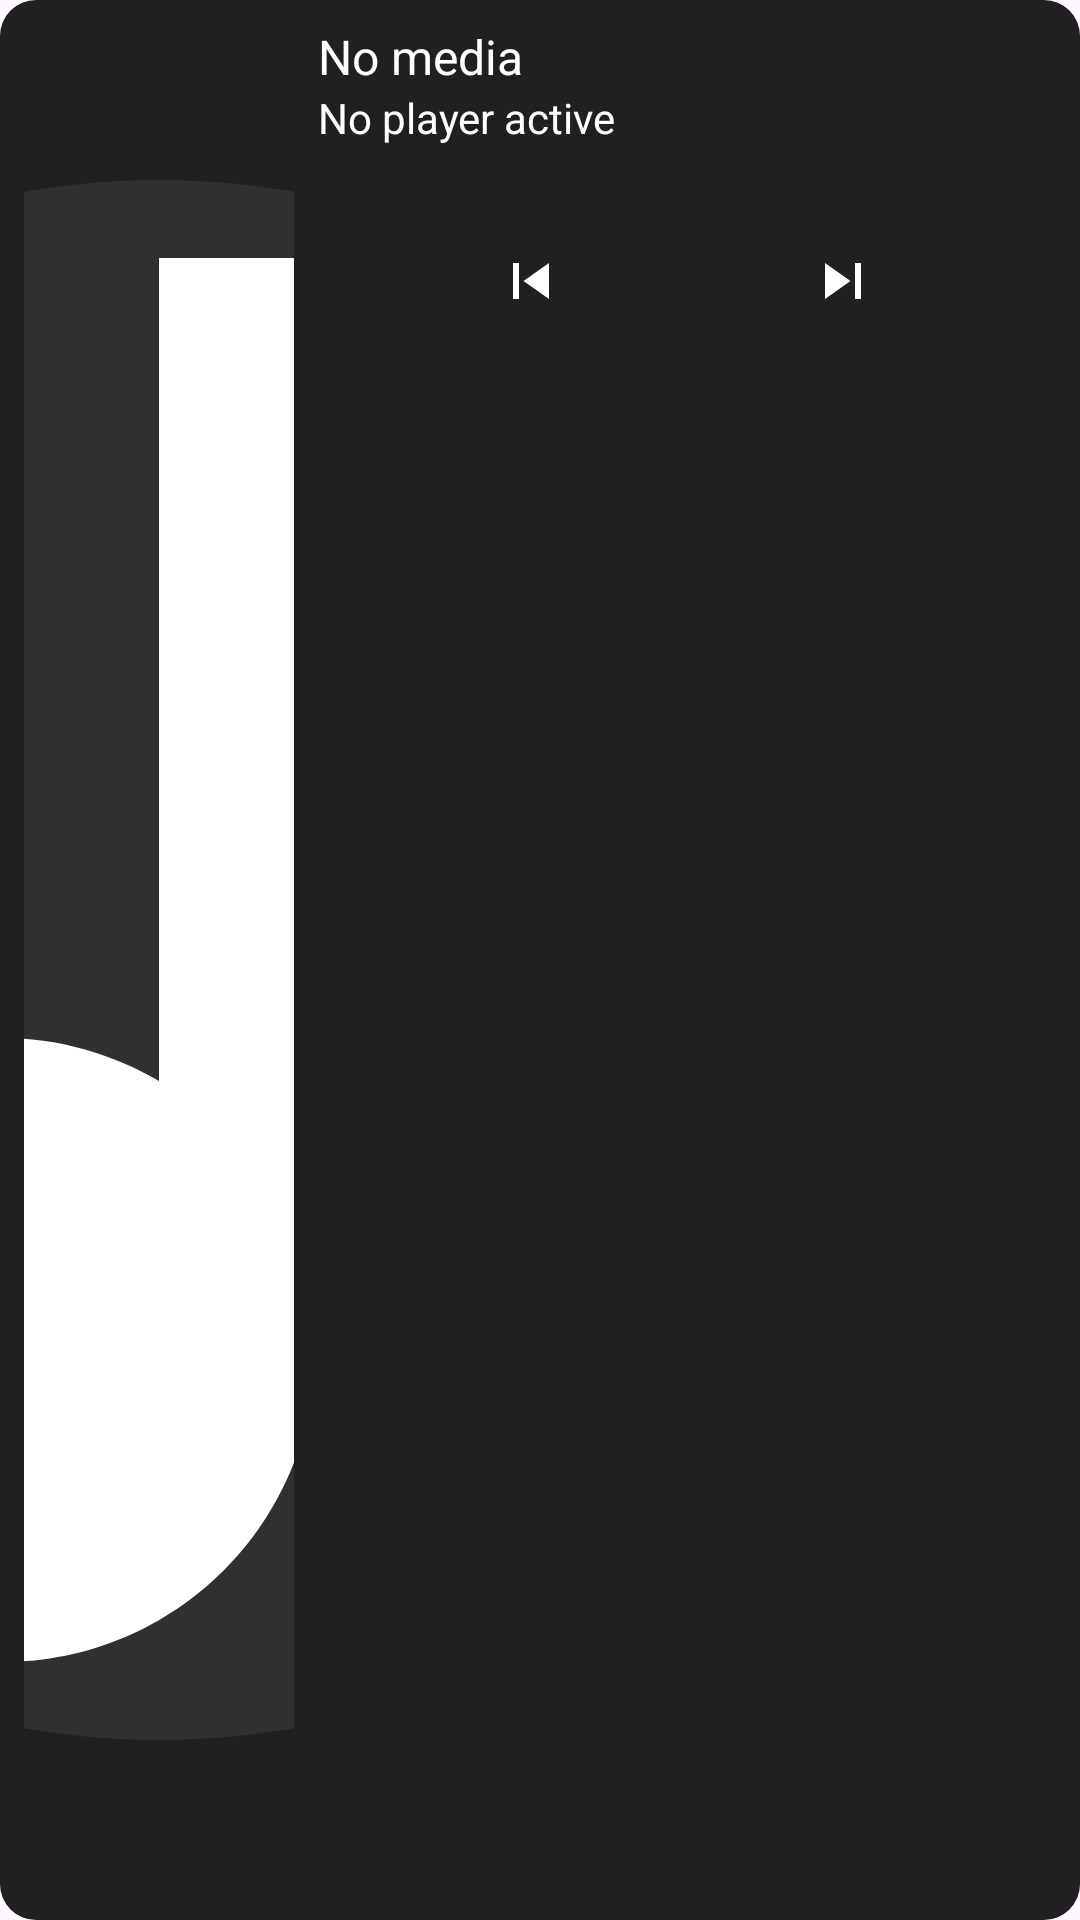

Icon click points for this 1080×1920 phone screenshot, format point (x, y):
Next track: point (843, 281)
Previous track: point (531, 281)
